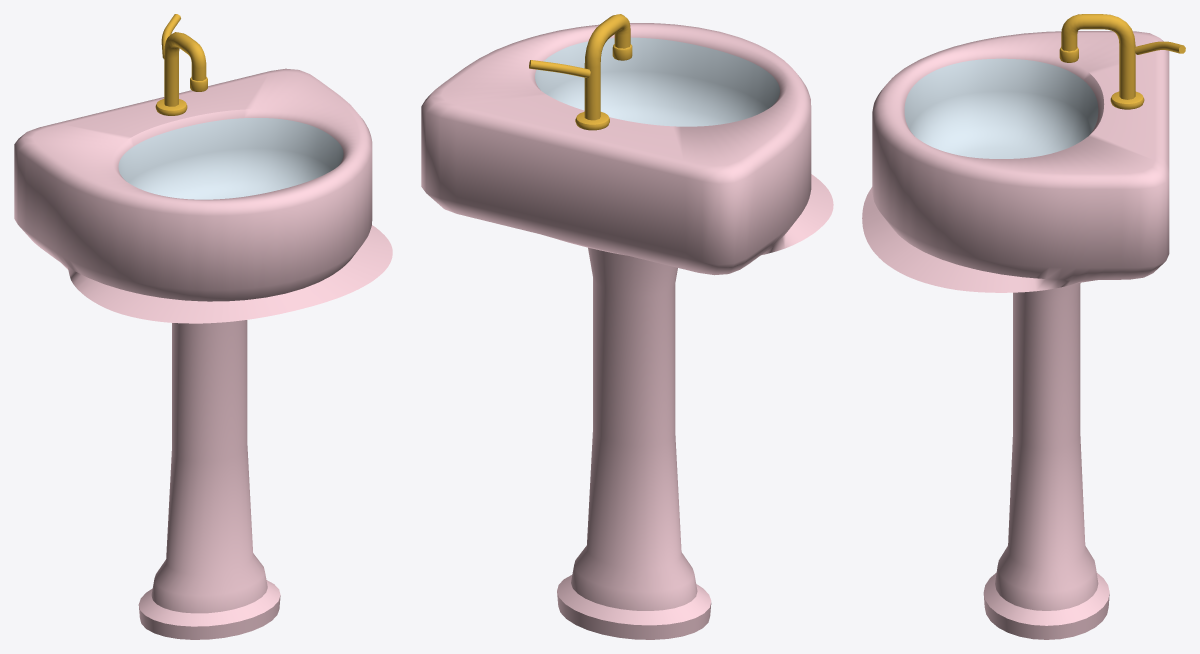
The model's file is pia_coluna_rosa.glb.
3 views of the same model, side by side, from view 1: azimuth 30°, elevation 25°; view 2: azimuth 150°, elevation 25°; view 3: azimuth 270°, elevation 25° (orthographic). The views are drawn at different scales.
Visible parts, largest first — view 1: pia_coluna_rosa; view 2: pia_coluna_rosa; view 3: pia_coluna_rosa.
Part boxes in pixels (x1=…): pia_coluna_rosa: x1=14, y1=14, x2=392, y2=639; pia_coluna_rosa: x1=421, y1=14, x2=833, y2=639; pia_coluna_rosa: x1=862, y1=14, x2=1185, y2=639.
Bounding box in the file's own units: 0.56 × 1.01 × 0.501.
1 material, 1 textured.
